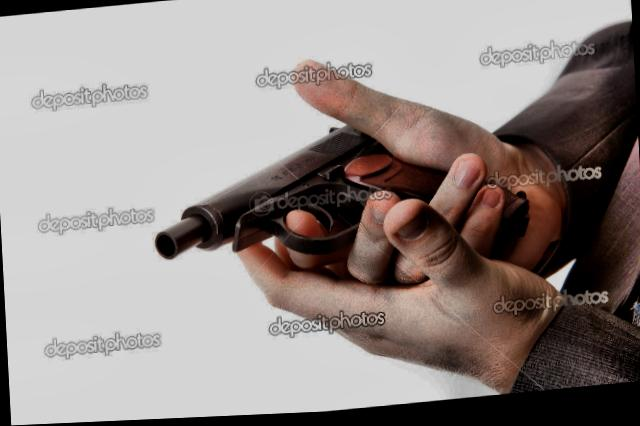pistol: (141, 71, 545, 335)
